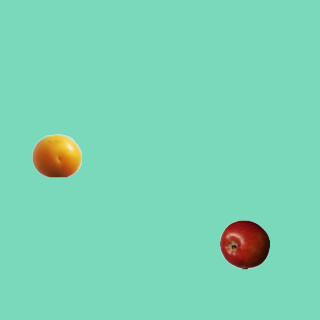Apple Braeburn: (219, 219, 269, 269)
Cherry Wax Yellow: (31, 130, 81, 180)
